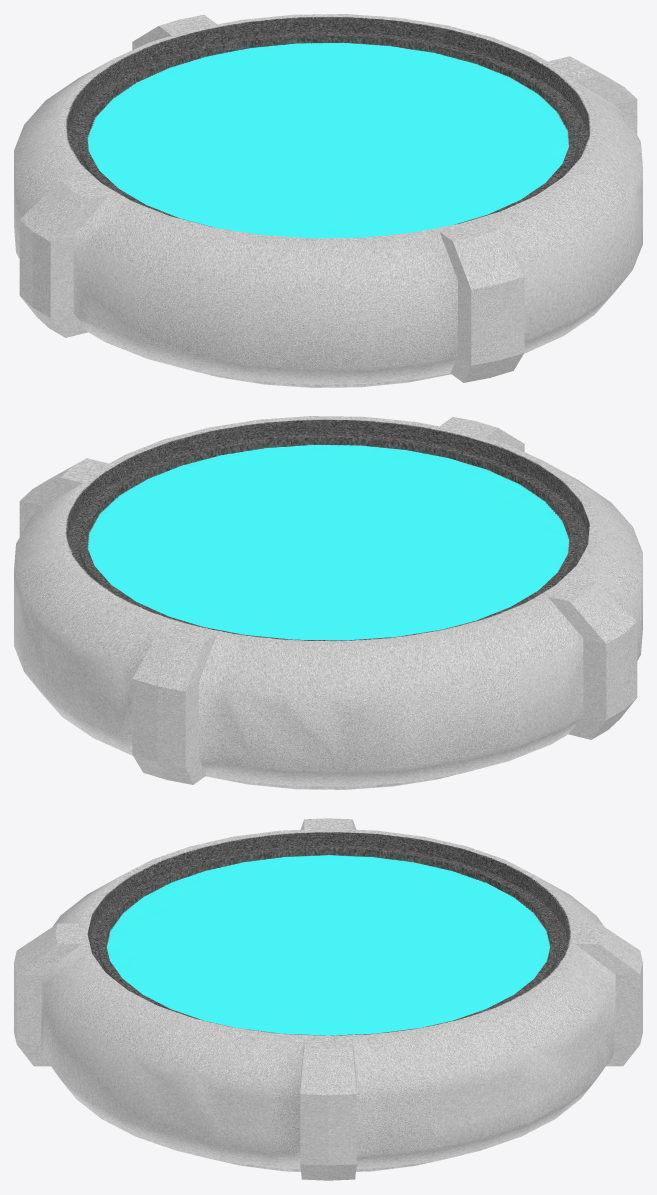
The model's file is holo-puck_opt.glb.
The picture shows the model from 3 angles, top to bottom: view 1: azimuth 30°, elevation 25°; view 2: azimuth 150°, elevation 25°; view 3: azimuth 270°, elevation 25°; orthographic projection. The views are drawn at different scales.
Visible parts, largest first — view 1: Cylinder_Material_0; view 2: Cylinder_Material_0; view 3: Cylinder_Material_0.
Part boxes in pixels (<box>): Cylinder_Material_0: <box>14,14,642,387</box>; Cylinder_Material_0: <box>14,416,642,789</box>; Cylinder_Material_0: <box>14,818,642,1180</box>.
Bounding box in the file's own units: 6.44 × 1.62 × 6.44.
Materials: 1 (1 with a texture image).
